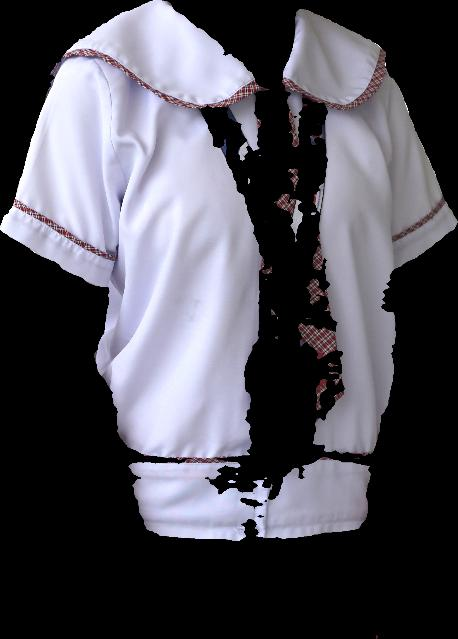pologirl: (0, 0, 370, 541)
